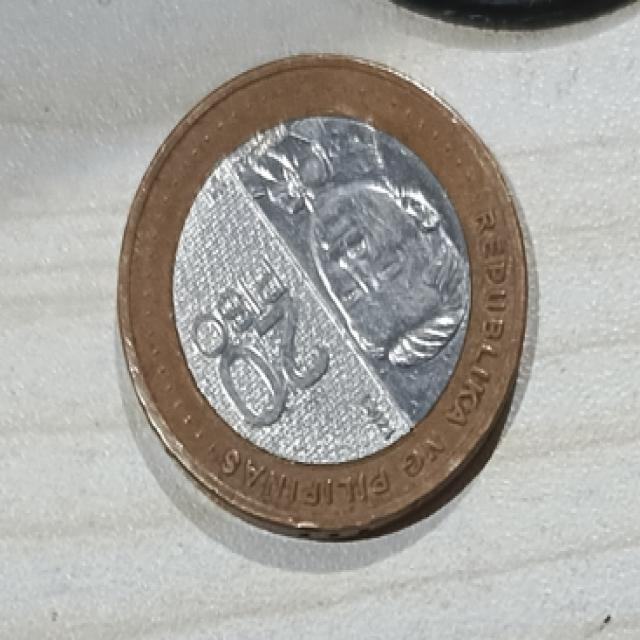20_peso: (119, 57, 525, 536)
